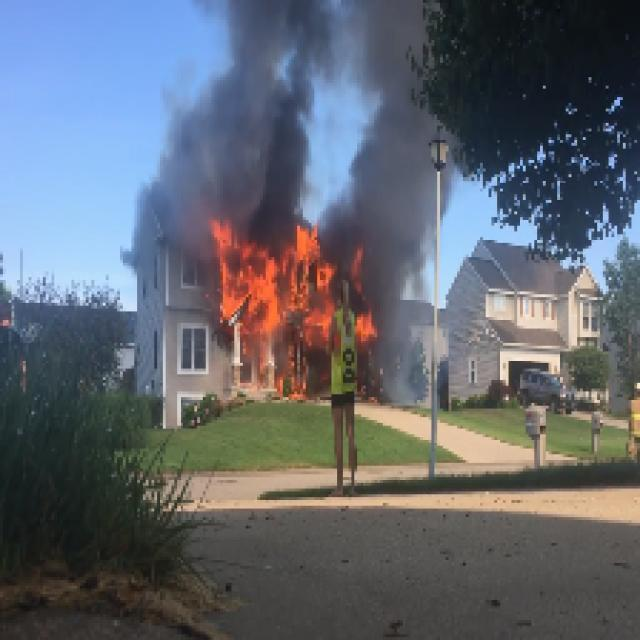Fire: (214, 246, 368, 398)
Smoke: (173, 7, 307, 209), (352, 9, 438, 227)
